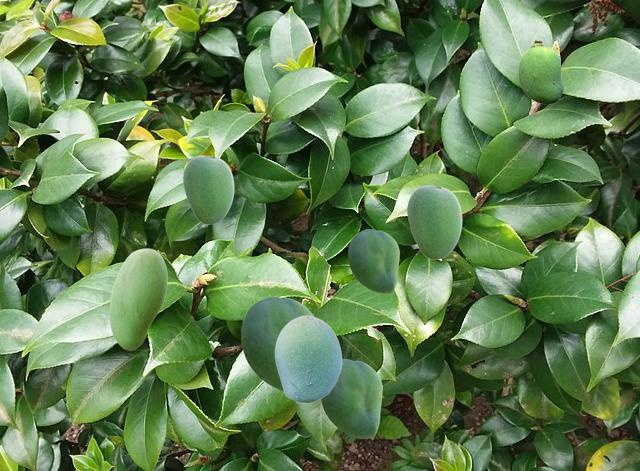green_mango: (241, 296, 313, 391), (274, 315, 341, 402), (109, 248, 166, 349), (320, 359, 381, 437), (407, 185, 461, 258), (183, 155, 233, 223), (348, 229, 398, 292), (518, 40, 563, 103)
